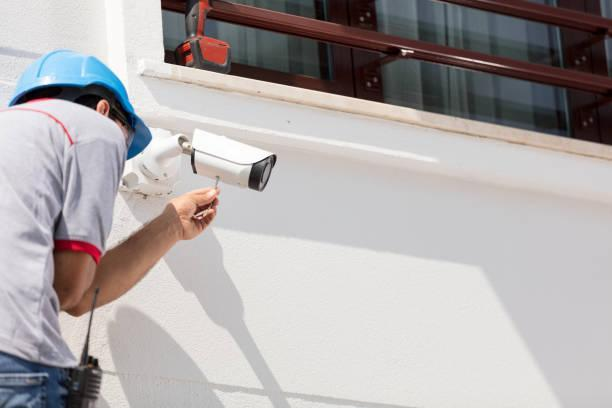camera: (188, 118, 280, 195)
